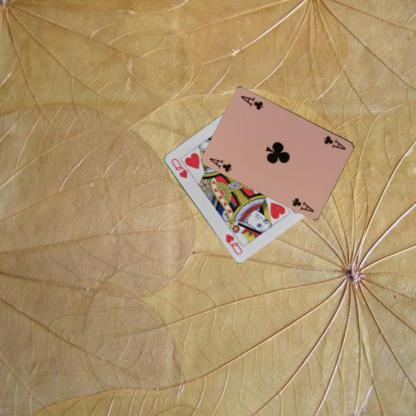Ac: (321, 133, 347, 151), (207, 155, 233, 173)
Qh: (168, 155, 188, 180)
